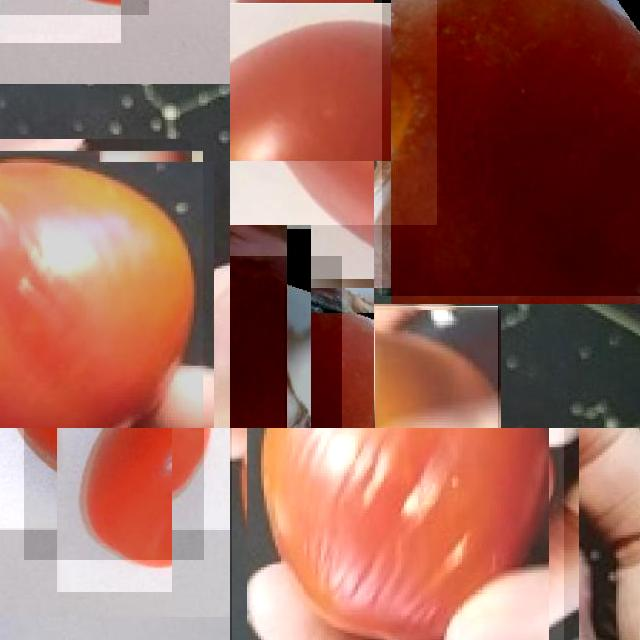0: (230, 0, 437, 224)
1: (382, 0, 640, 296), (230, 256, 342, 428), (374, 306, 498, 428)
Fresh Tomato: (24, 428, 204, 560)
Rotten Tomato: (231, 428, 564, 640), (0, 150, 203, 428)
